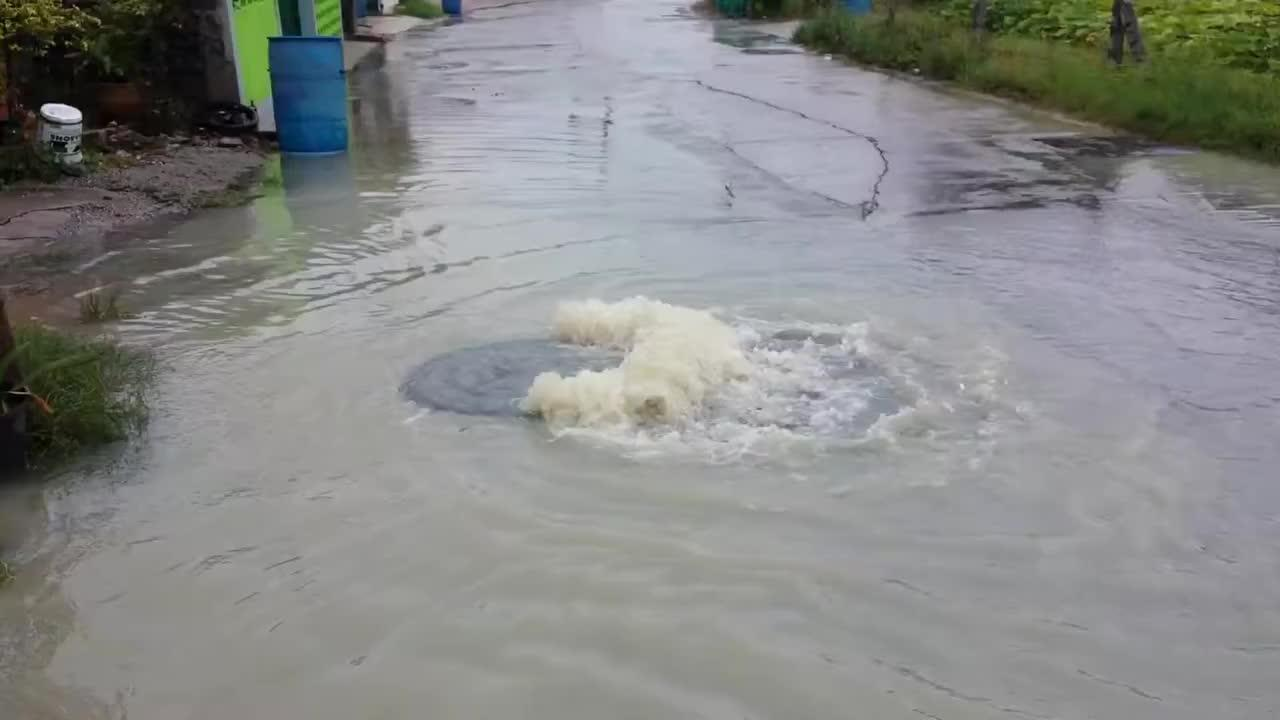drainage_overflow: (289, 247, 982, 622)
